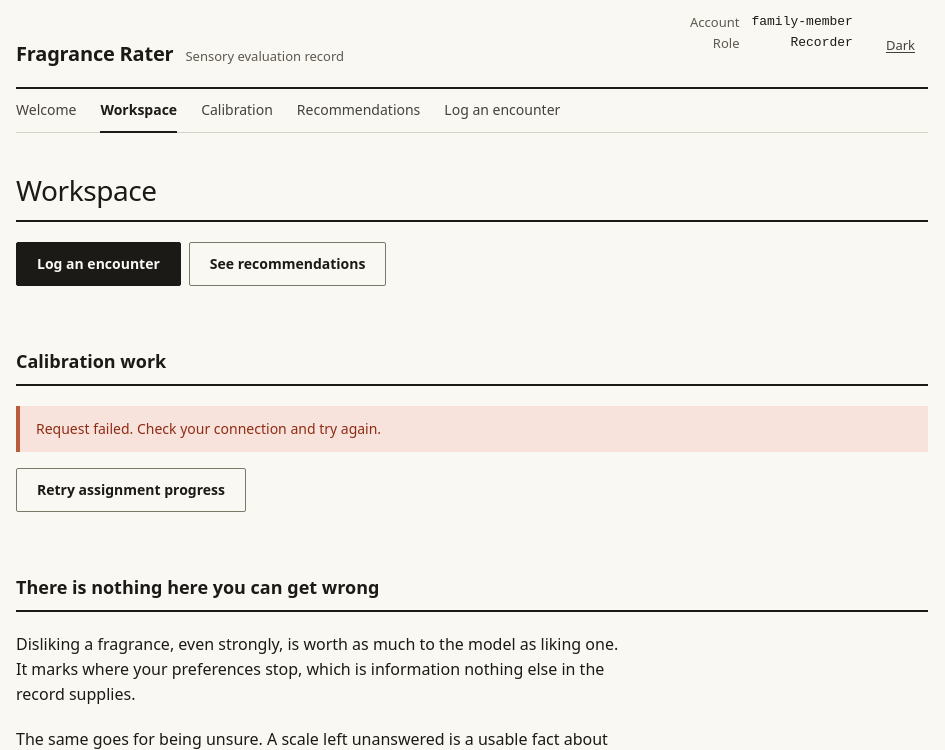
Scenario: WorkspacePage › retries assignment progress without reloading the application
The width and height of the screenshot is (945, 750).
Expected: the text "Request failed. Check your connection and try again." is shown, [16, 406, 928, 452]
Step 1. Click the button "Retry assignment progress" → (131, 490), box [16, 468, 246, 512]
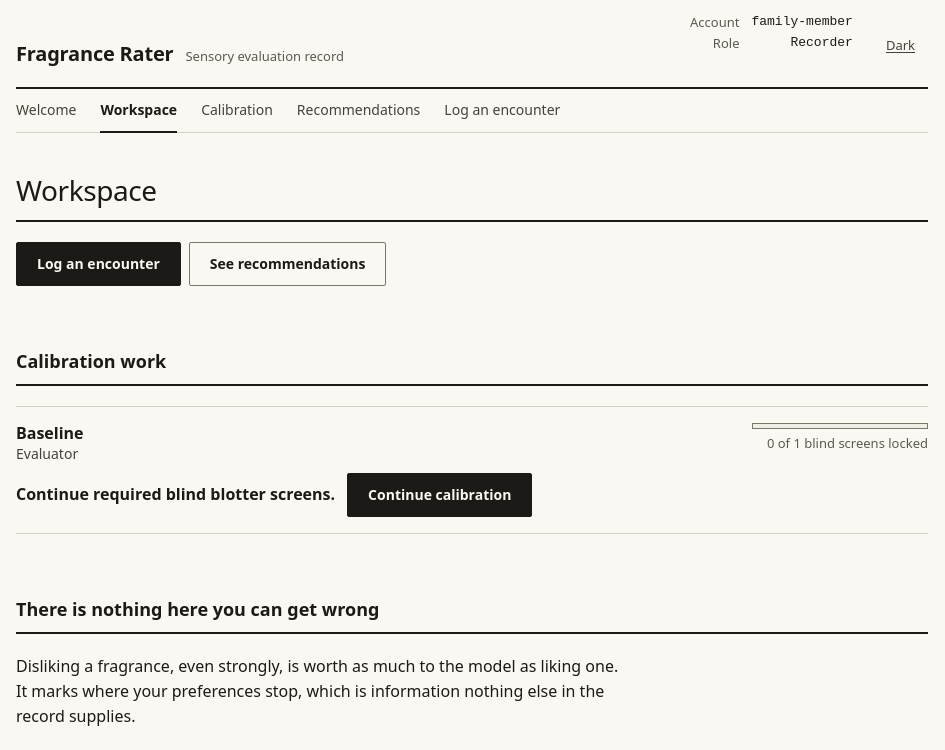
Now the text "Continue required blind blotter screens." is shown, box [16, 483, 335, 505]
Now the text "Request failed. Check your connection and try again." is gone
